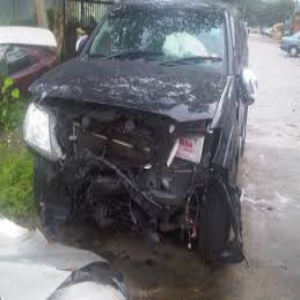bumper: (59, 152, 200, 243)
